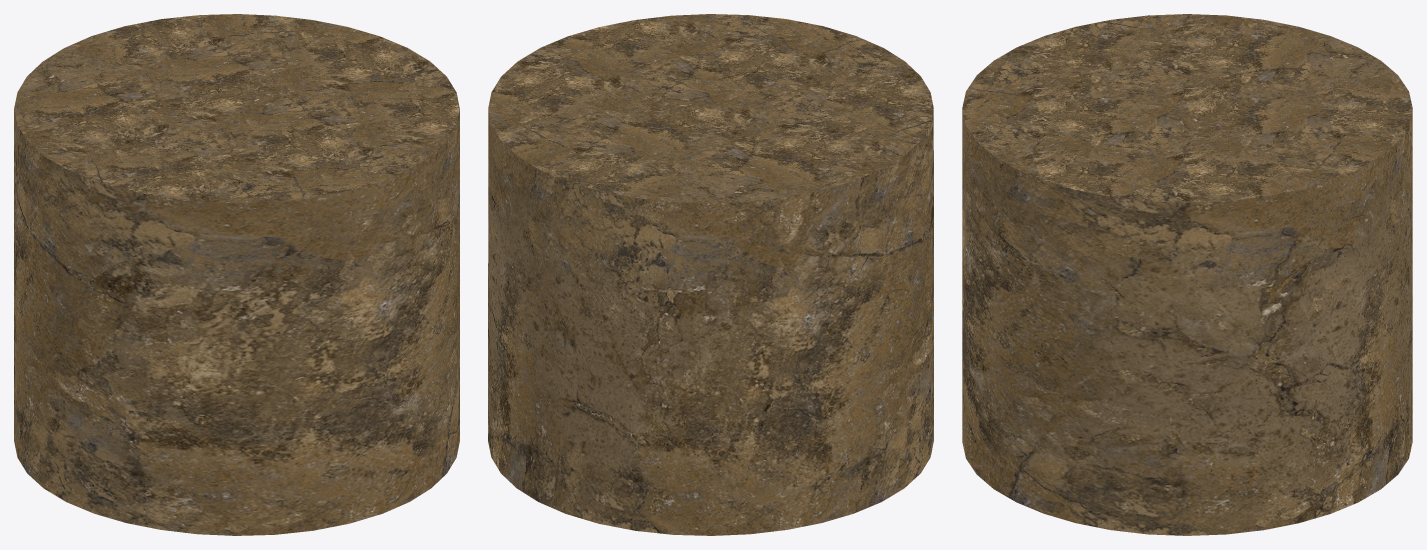
Rendered from suidao(3)_4.glb.
3 renders of one model, left to right at view 1: azimuth 30°, elevation 25°; view 2: azimuth 150°, elevation 25°; view 3: azimuth 270°, elevation 25°, orthographic.
Parts seen in each view (by area): view 1: XSBYSZK_01; view 2: XSBYSZK_01; view 3: XSBYSZK_01.
Boxes of the visible parts, box(x1,y1,x2,y2) form: XSBYSZK_01: box(14, 14, 459, 535); XSBYSZK_01: box(488, 14, 933, 535); XSBYSZK_01: box(962, 14, 1412, 535).
Bounding box in the file's own units: 7.54 × 6.2 × 7.6.
Materials: 1 (1 with a texture image).
